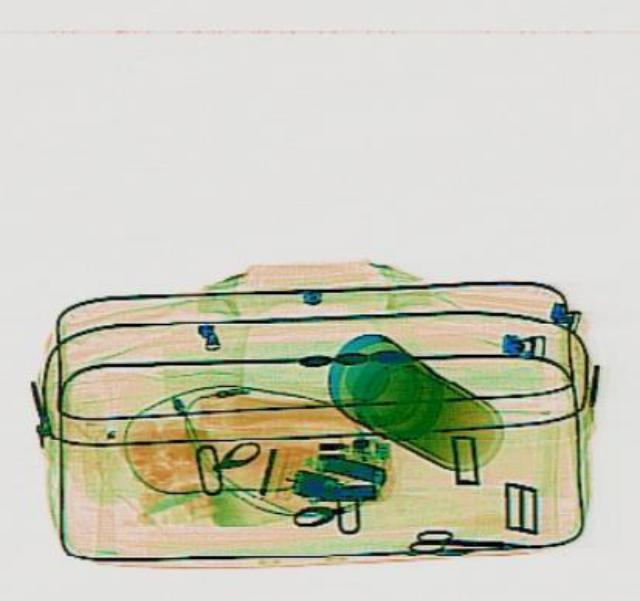Scissors: (407, 525, 529, 553)
